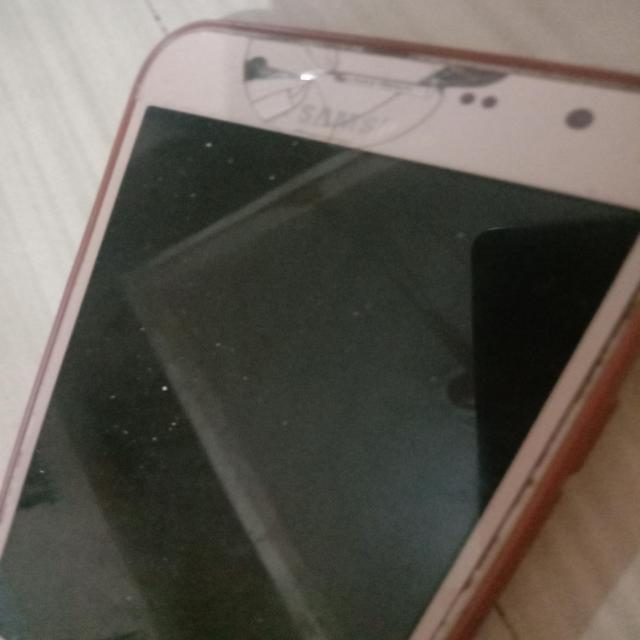mobile-phone: (47, 8, 630, 637)
